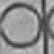no answer: (0, 2, 42, 50)
